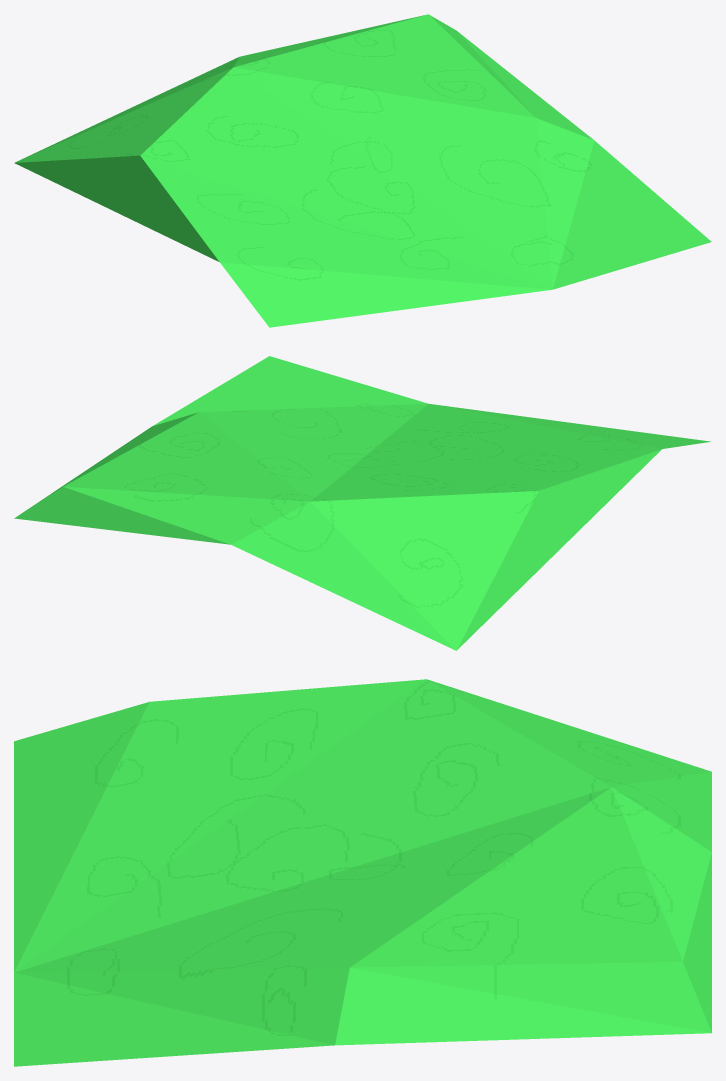
The model's file is island.gltf.
3 renders of one model, top to bottom at view 1: azimuth 30°, elevation 25°; view 2: azimuth 150°, elevation 25°; view 3: azimuth 270°, elevation 25°, orthographic. The views are drawn at different scales.
Parts seen in each view (by area): view 1: plane; view 2: plane; view 3: plane.
Boxes of the visible parts, box(x1,y1,x2,y2) form: plane: box(14, 14, 711, 327); plane: box(14, 356, 710, 650); plane: box(14, 679, 711, 1066).
Size of the model in its own units: 13 by 2.45 by 13.
Materials: 1 (1 with a texture image).
